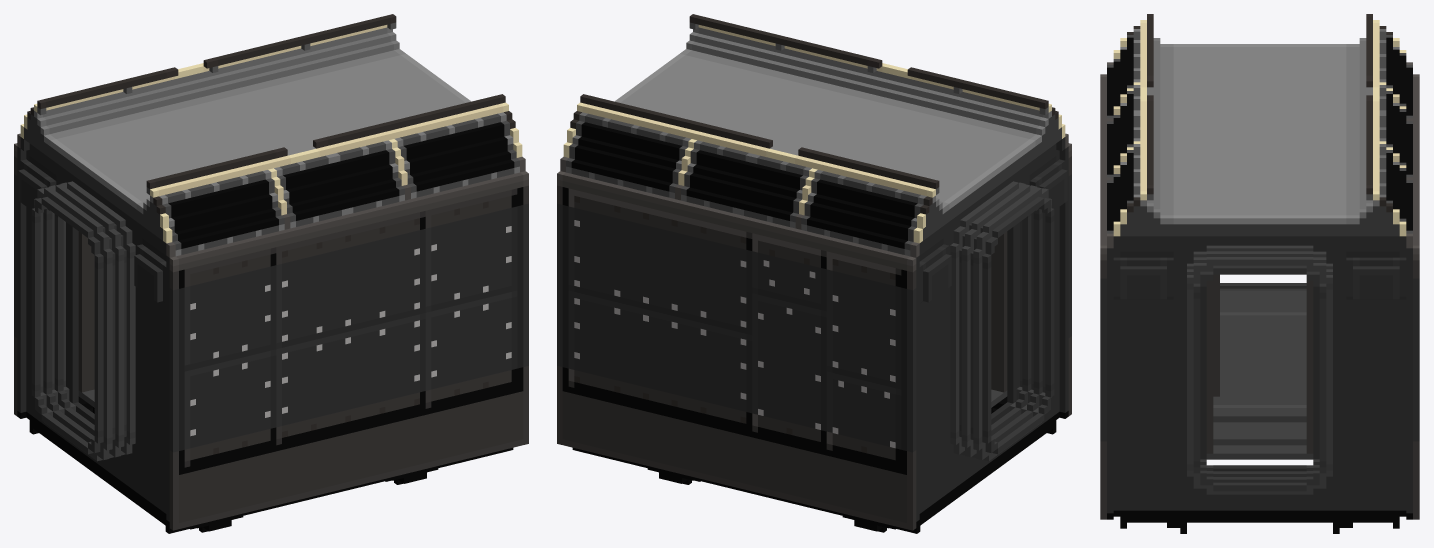
File: thurbo_rabe_526_7_re3.obj
3 renders of one model, left to right at view 1: azimuth 30°, elevation 25°; view 2: azimuth 150°, elevation 25°; view 3: azimuth 270°, elevation 25°, orthographic.
Visible parts, largest first — view 1: FRAME_1, roof_panels, INTERIOR_LCG_il_LINVERT; view 2: FRAME_1, roof_panels, INTERIOR_LCG_il_LINVERT; view 3: FRAME_1, INTERIOR_LCG_il_LINVERT, roof_panels, FRAME_WHEEL_1.
Part boxes in pixels (left/top/right/bottom): FRAME_1: left=14, top=27, right=528, bottom=533; roof_panels: left=34, top=14, right=508, bottom=197; INTERIOR_LCG_il_LINVERT: left=78, top=231, right=94, bottom=407; FRAME_1: left=557, top=27, right=1071, bottom=533; roof_panels: left=577, top=14, right=1051, bottom=197; INTERIOR_LCG_il_LINVERT: left=991, top=231, right=1007, bottom=407; FRAME_1: left=1100, top=26, right=1419, bottom=528; INTERIOR_LCG_il_LINVERT: left=1206, top=274, right=1313, bottom=459; roof_panels: left=1140, top=14, right=1379, bottom=200; FRAME_WHEEL_1: left=1167, top=465, right=1352, bottom=533.
Size of the model in its own units: 4.5 by 3.94 by 3.
Materials: 1 (1 with a texture image).
